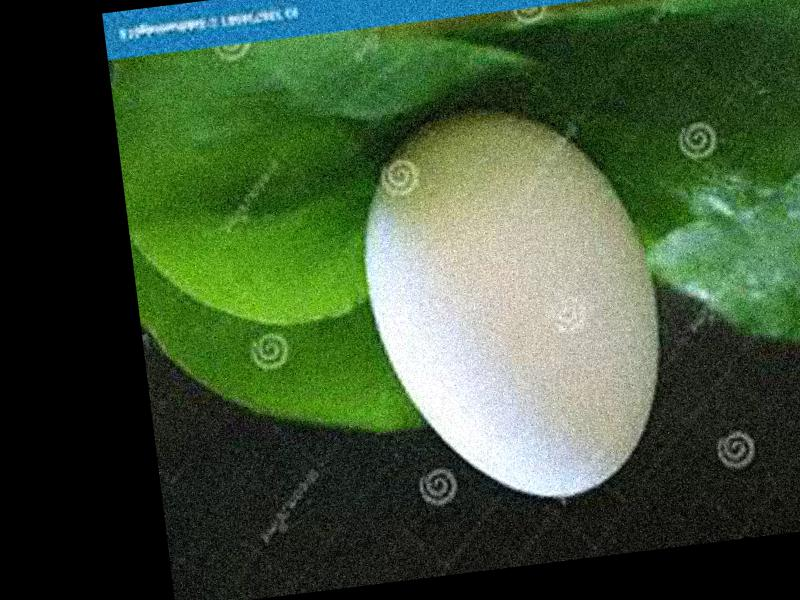Eggs: (347, 93, 678, 517)
